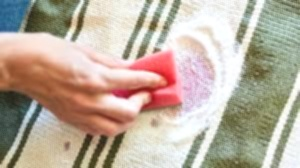wine: (173, 58, 208, 101)
